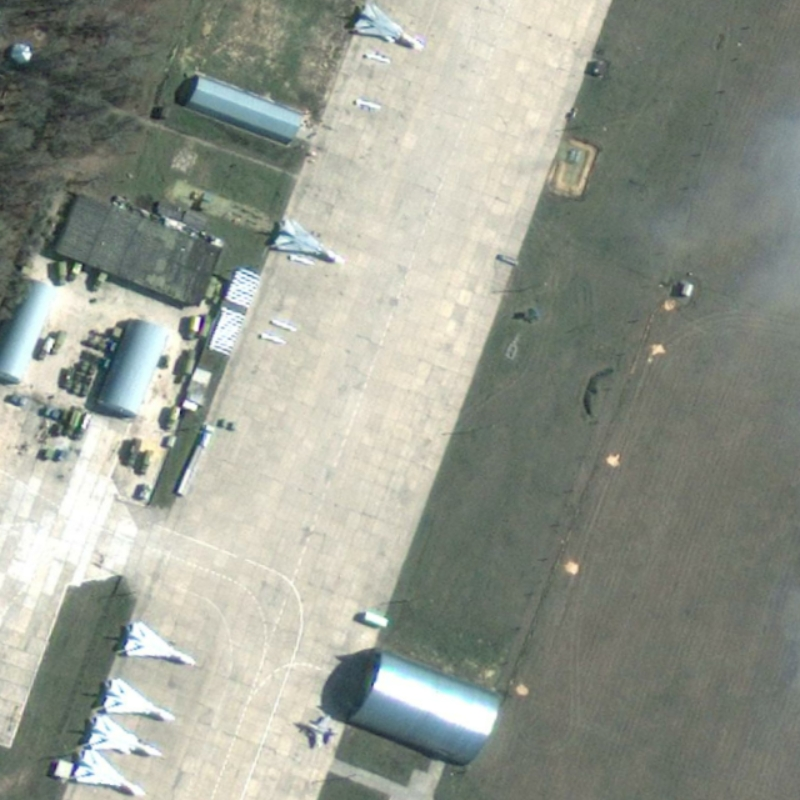A20: (73, 747, 149, 799), (352, 2, 427, 53), (102, 676, 178, 723), (123, 620, 198, 667), (87, 714, 166, 758), (274, 218, 346, 264)
